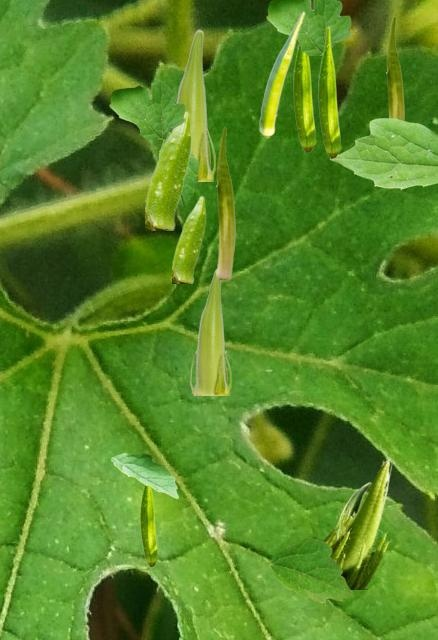okra: (323, 456, 393, 588), (176, 29, 214, 180), (259, 11, 304, 137), (145, 110, 191, 229), (189, 269, 230, 394), (318, 26, 340, 158), (172, 195, 205, 282), (216, 127, 234, 278), (293, 43, 315, 152), (337, 482, 369, 537), (386, 16, 403, 119), (140, 485, 157, 566)
